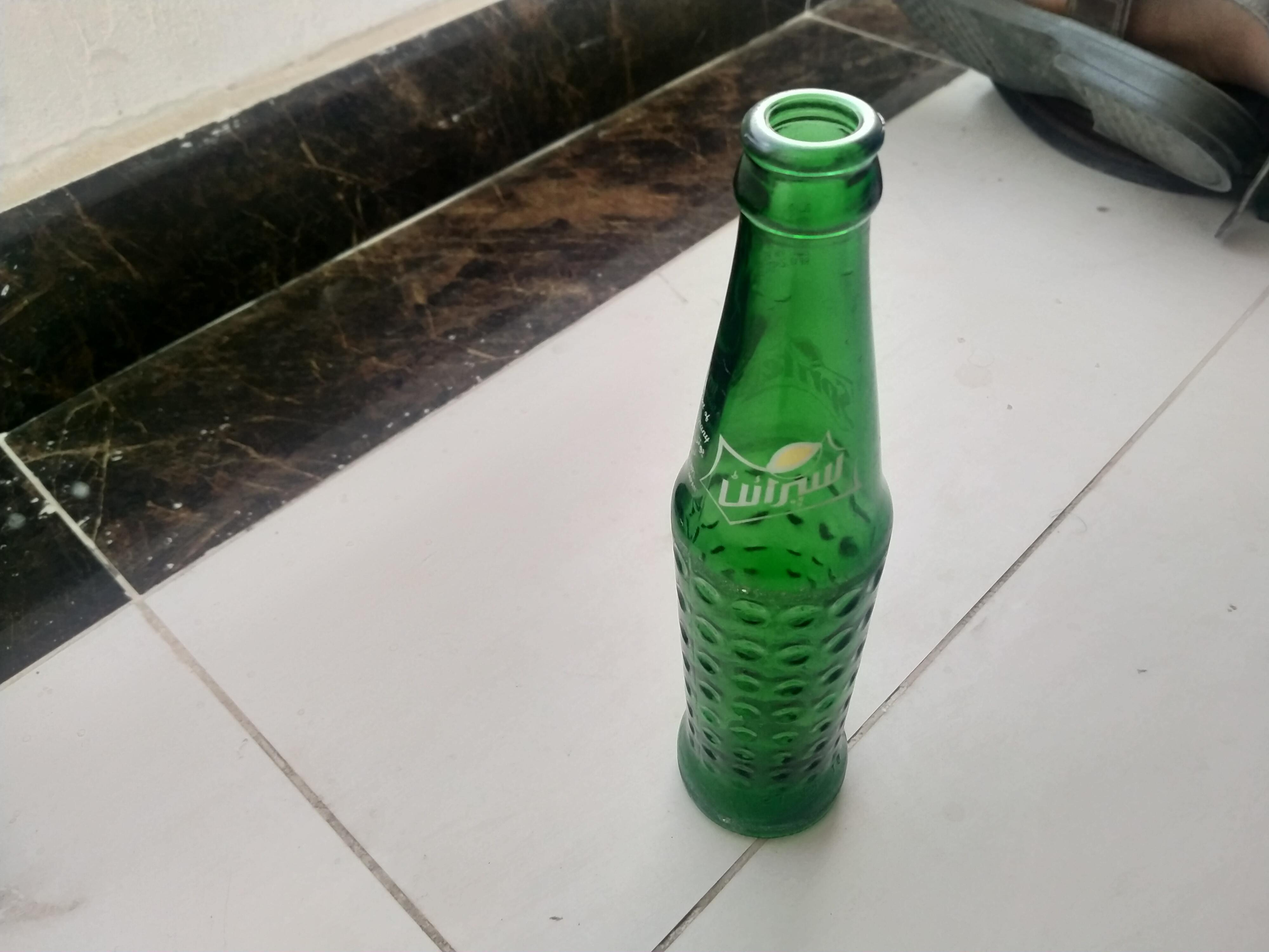bottle-glass: (672, 83, 892, 843)
